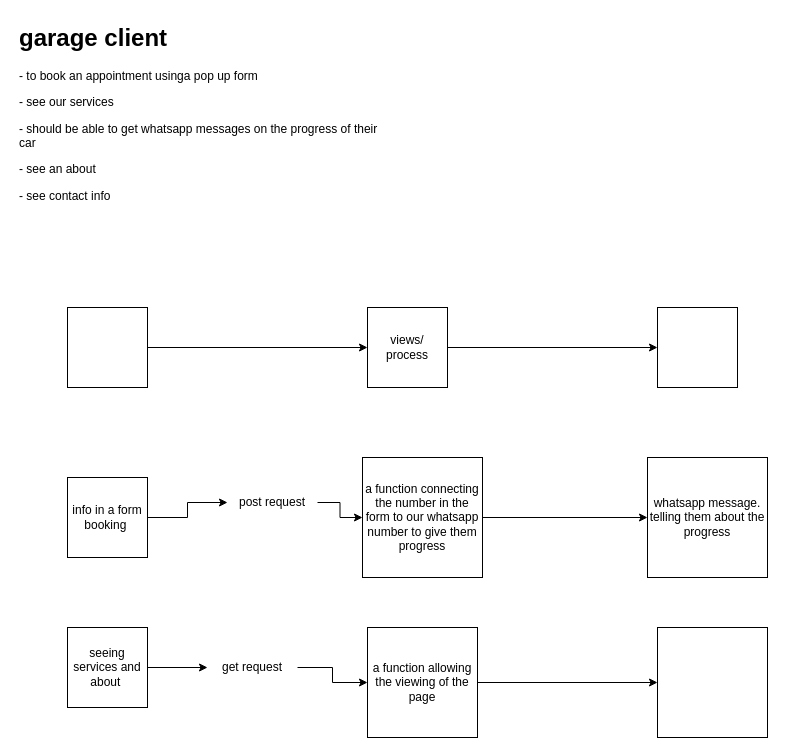
This 785x755 diagram has some shape labels left out. Each missing label, with the box of its shape:
output: (656, 306, 738, 388)
the landing page with all the information: (656, 626, 768, 738)
url / page (input): (66, 306, 148, 388)
